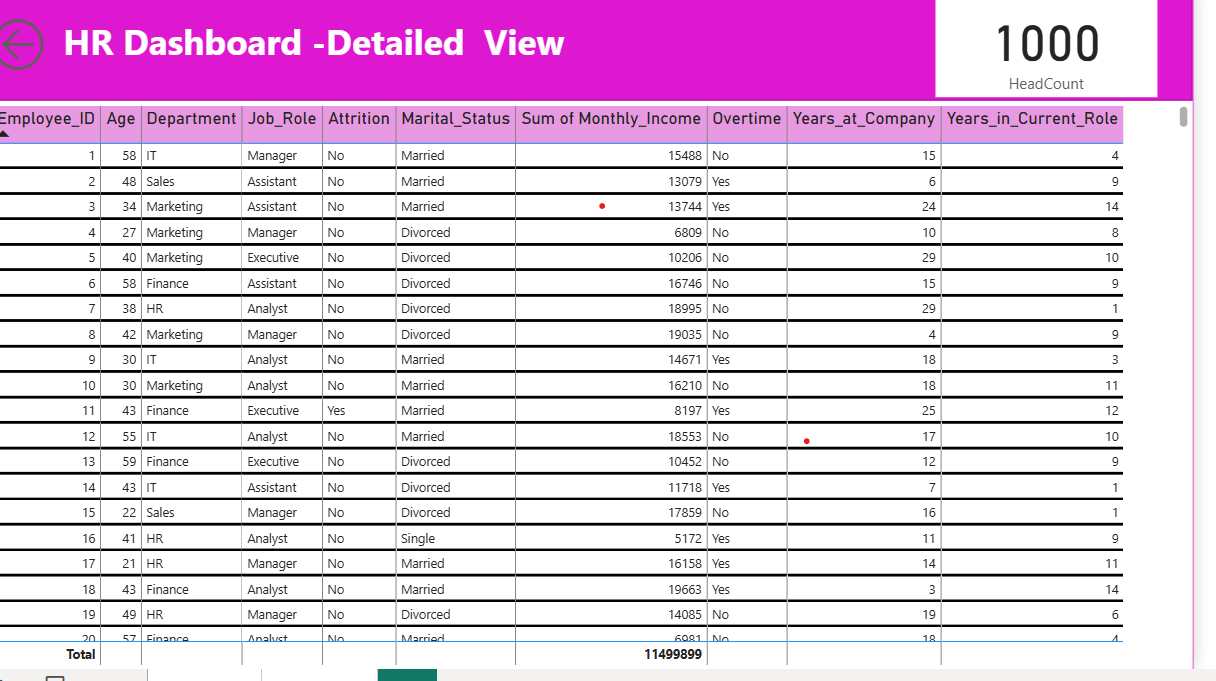

The page's visual inventory and layout, read from the dashboard file:
{"tool":"powerbi","page":{"name":"Page 2","canvas":[1280,720],"ordinal":1},"visuals":[{"type":"shape","box":[0,0,1279.4,117.2],"z":0},{"type":"tableEx","fields":{"Values":["HR DATASETS.Employee_ID","HR DATASETS.Age","HR DATASETS.Department","HR DATASETS.Job_Role","HR DATASETS.Attrition","HR DATASETS.Marital_Status","Sum(HR DATASETS.Monthly_Income)","HR DATASETS.Overtime","HR DATASETS.Years_at_Company","HR DATASETS.Years_in_Current_Role"]},"box":[0,117.2,1279.4,602.8],"z":1},{"type":"textbox","box":[0,24.6,695.4,136.1],"z":2},{"type":"card","fields":{"Values":["Measure.HeadCount"]},"box":[1007.3,5.7,235,107],"z":3},{"type":"actionButton","box":[0,24.6,147.4,68],"z":4}]}

Visuals, with their boxes in screenshot pixels (x1, y1, x2, y2), scaled from the page's 1280x720 canvas onto the 1216x681 screenshot:
shape: bbox=(0, 0, 1215, 111)
tableEx - HR DATASETS.Employee_ID x HR DATASETS.Age: bbox=(0, 111, 1215, 680)
textbox: bbox=(0, 23, 661, 152)
card - Measure.HeadCount: bbox=(957, 5, 1180, 107)
actionButton: bbox=(0, 23, 140, 88)
